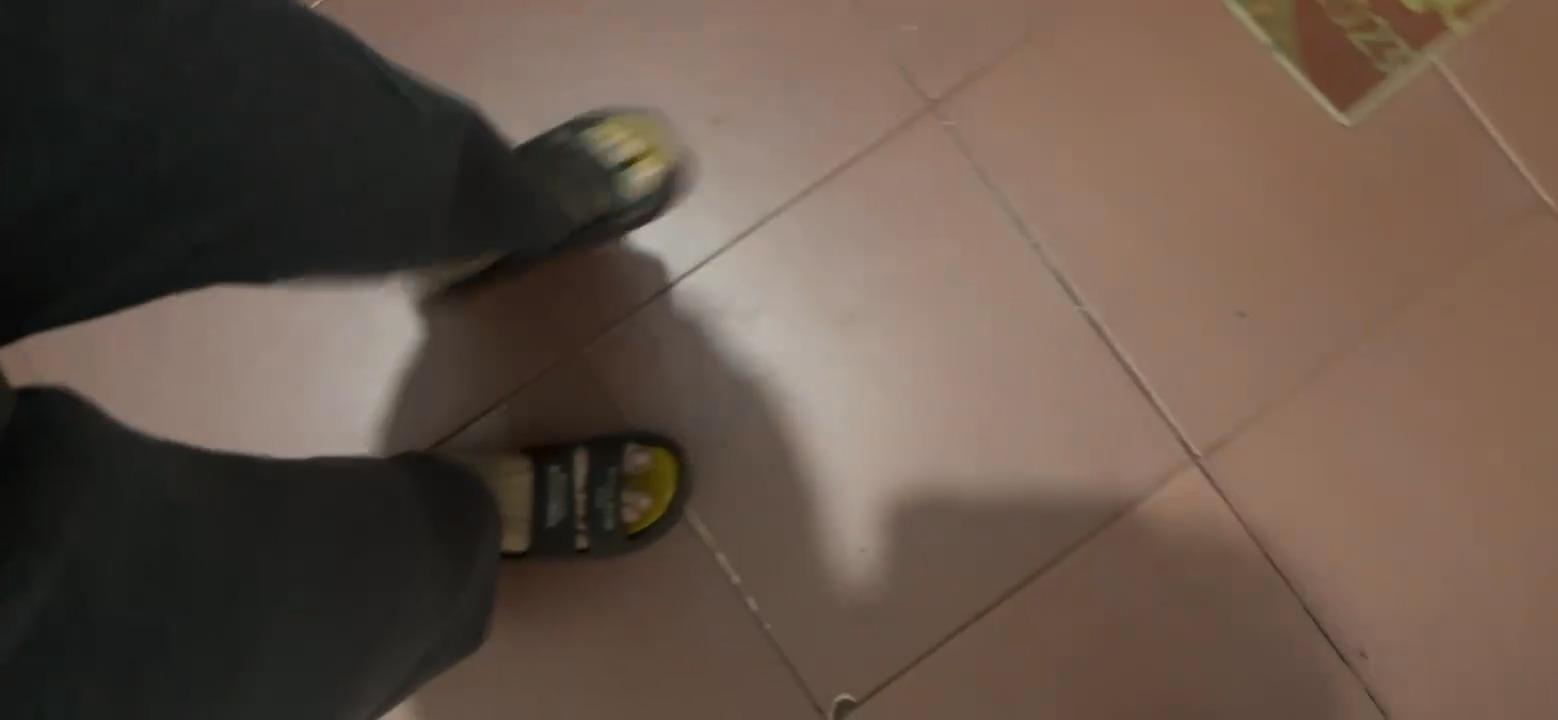no-boot: (399, 95, 703, 290), (431, 417, 687, 571)
